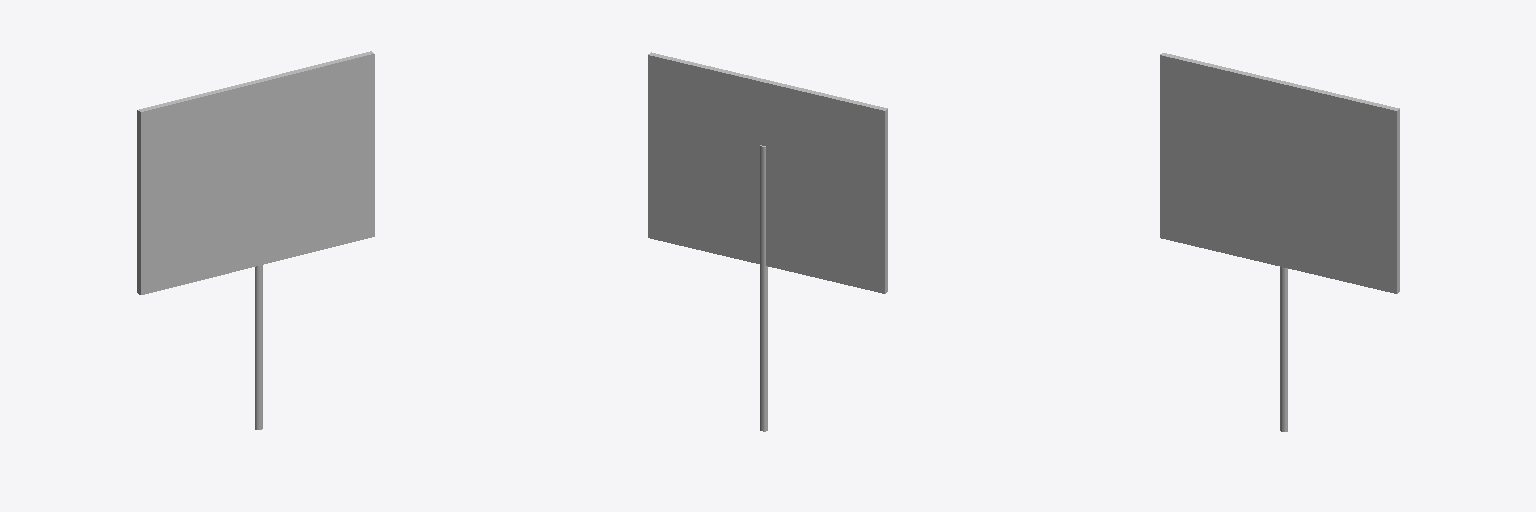
File: board_14.obj
3 views of the same model, side by side, from view 1: azimuth 30°, elevation 25°; view 2: azimuth 150°, elevation 25°; view 3: azimuth 330°, elevation 25° (orthographic).
Parts seen in each view (by area): view 1: Cube.013_Cube.014, Cylinder.013; view 2: Cube.013_Cube.014, Cylinder.013; view 3: Cube.013_Cube.014, Cylinder.013.
Part boxes in pixels (bbox=[...]): Cube.013_Cube.014: bbox=[137, 51, 374, 294]; Cylinder.013: bbox=[255, 265, 262, 429]; Cube.013_Cube.014: bbox=[648, 52, 887, 293]; Cylinder.013: bbox=[760, 145, 767, 431]; Cube.013_Cube.014: bbox=[1160, 53, 1399, 293]; Cylinder.013: bbox=[1280, 267, 1287, 431].
Bounding box in the file's own units: 0.3464 × 0.4895 × 0.0134.